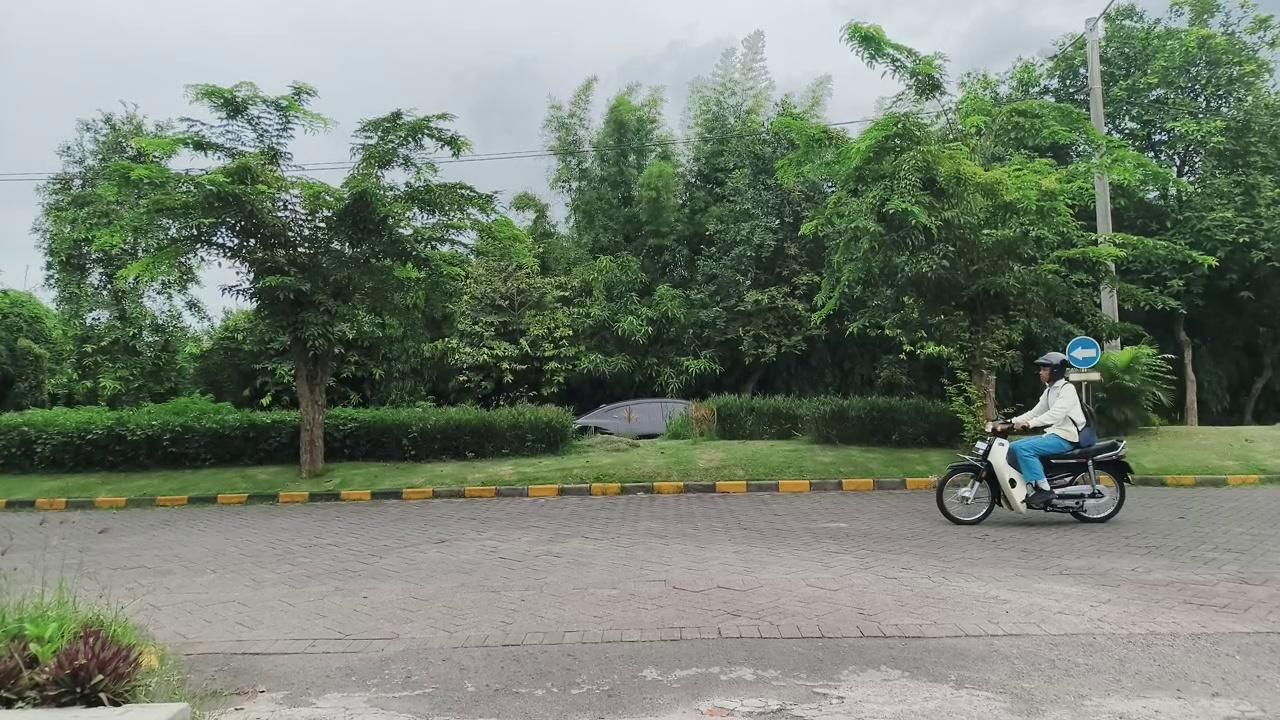Helmet: (1010, 352, 1085, 506)
Motor: (937, 421, 1132, 524)
